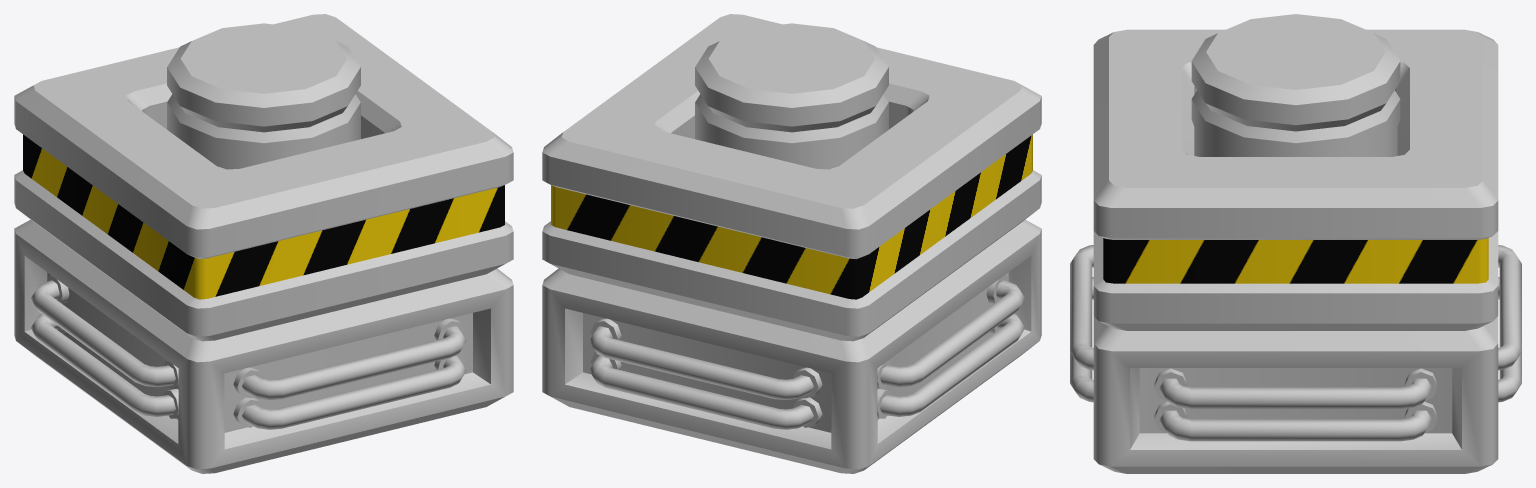
File: barrier_002.fbx
3 views of the same model, side by side, from view 1: azimuth 30°, elevation 25°; view 2: azimuth 150°, elevation 25°; view 3: azimuth 270°, elevation 25° (orthographic). The views are drawn at different scales.
Parts seen in each view (by area): view 1: barrier_002; view 2: barrier_002; view 3: barrier_002.
Boxes of the visible parts, x1=… form: barrier_002: x1=14, y1=14, x2=513, y2=473; barrier_002: x1=542, y1=14, x2=1041, y2=473; barrier_002: x1=1070, y1=14, x2=1521, y2=473.
Size of the model in its own units: 286 by 286 by 240.
